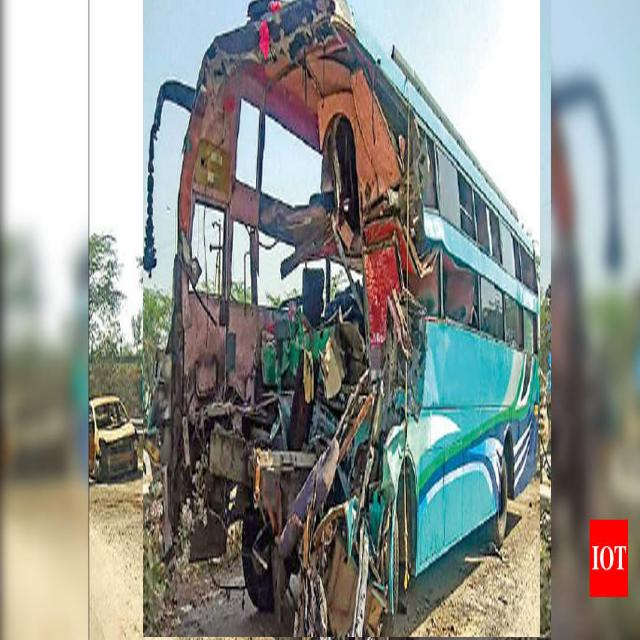accident: (143, 0, 539, 637), (89, 396, 138, 480)
